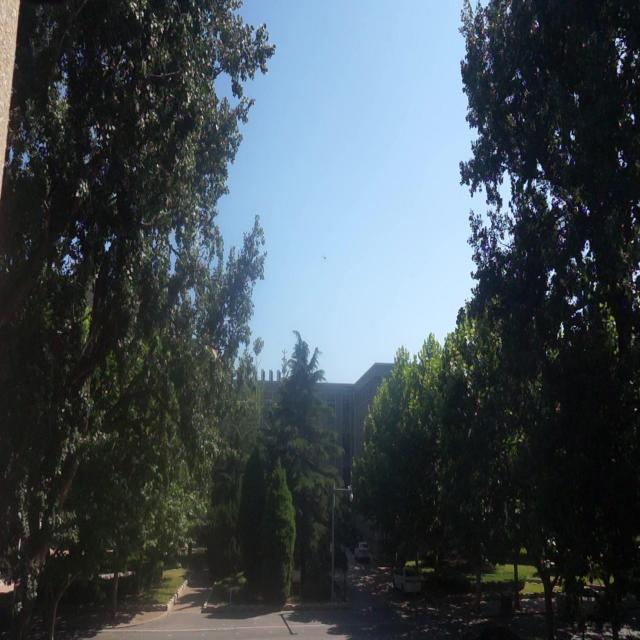UAV: (323, 255, 327, 261)
